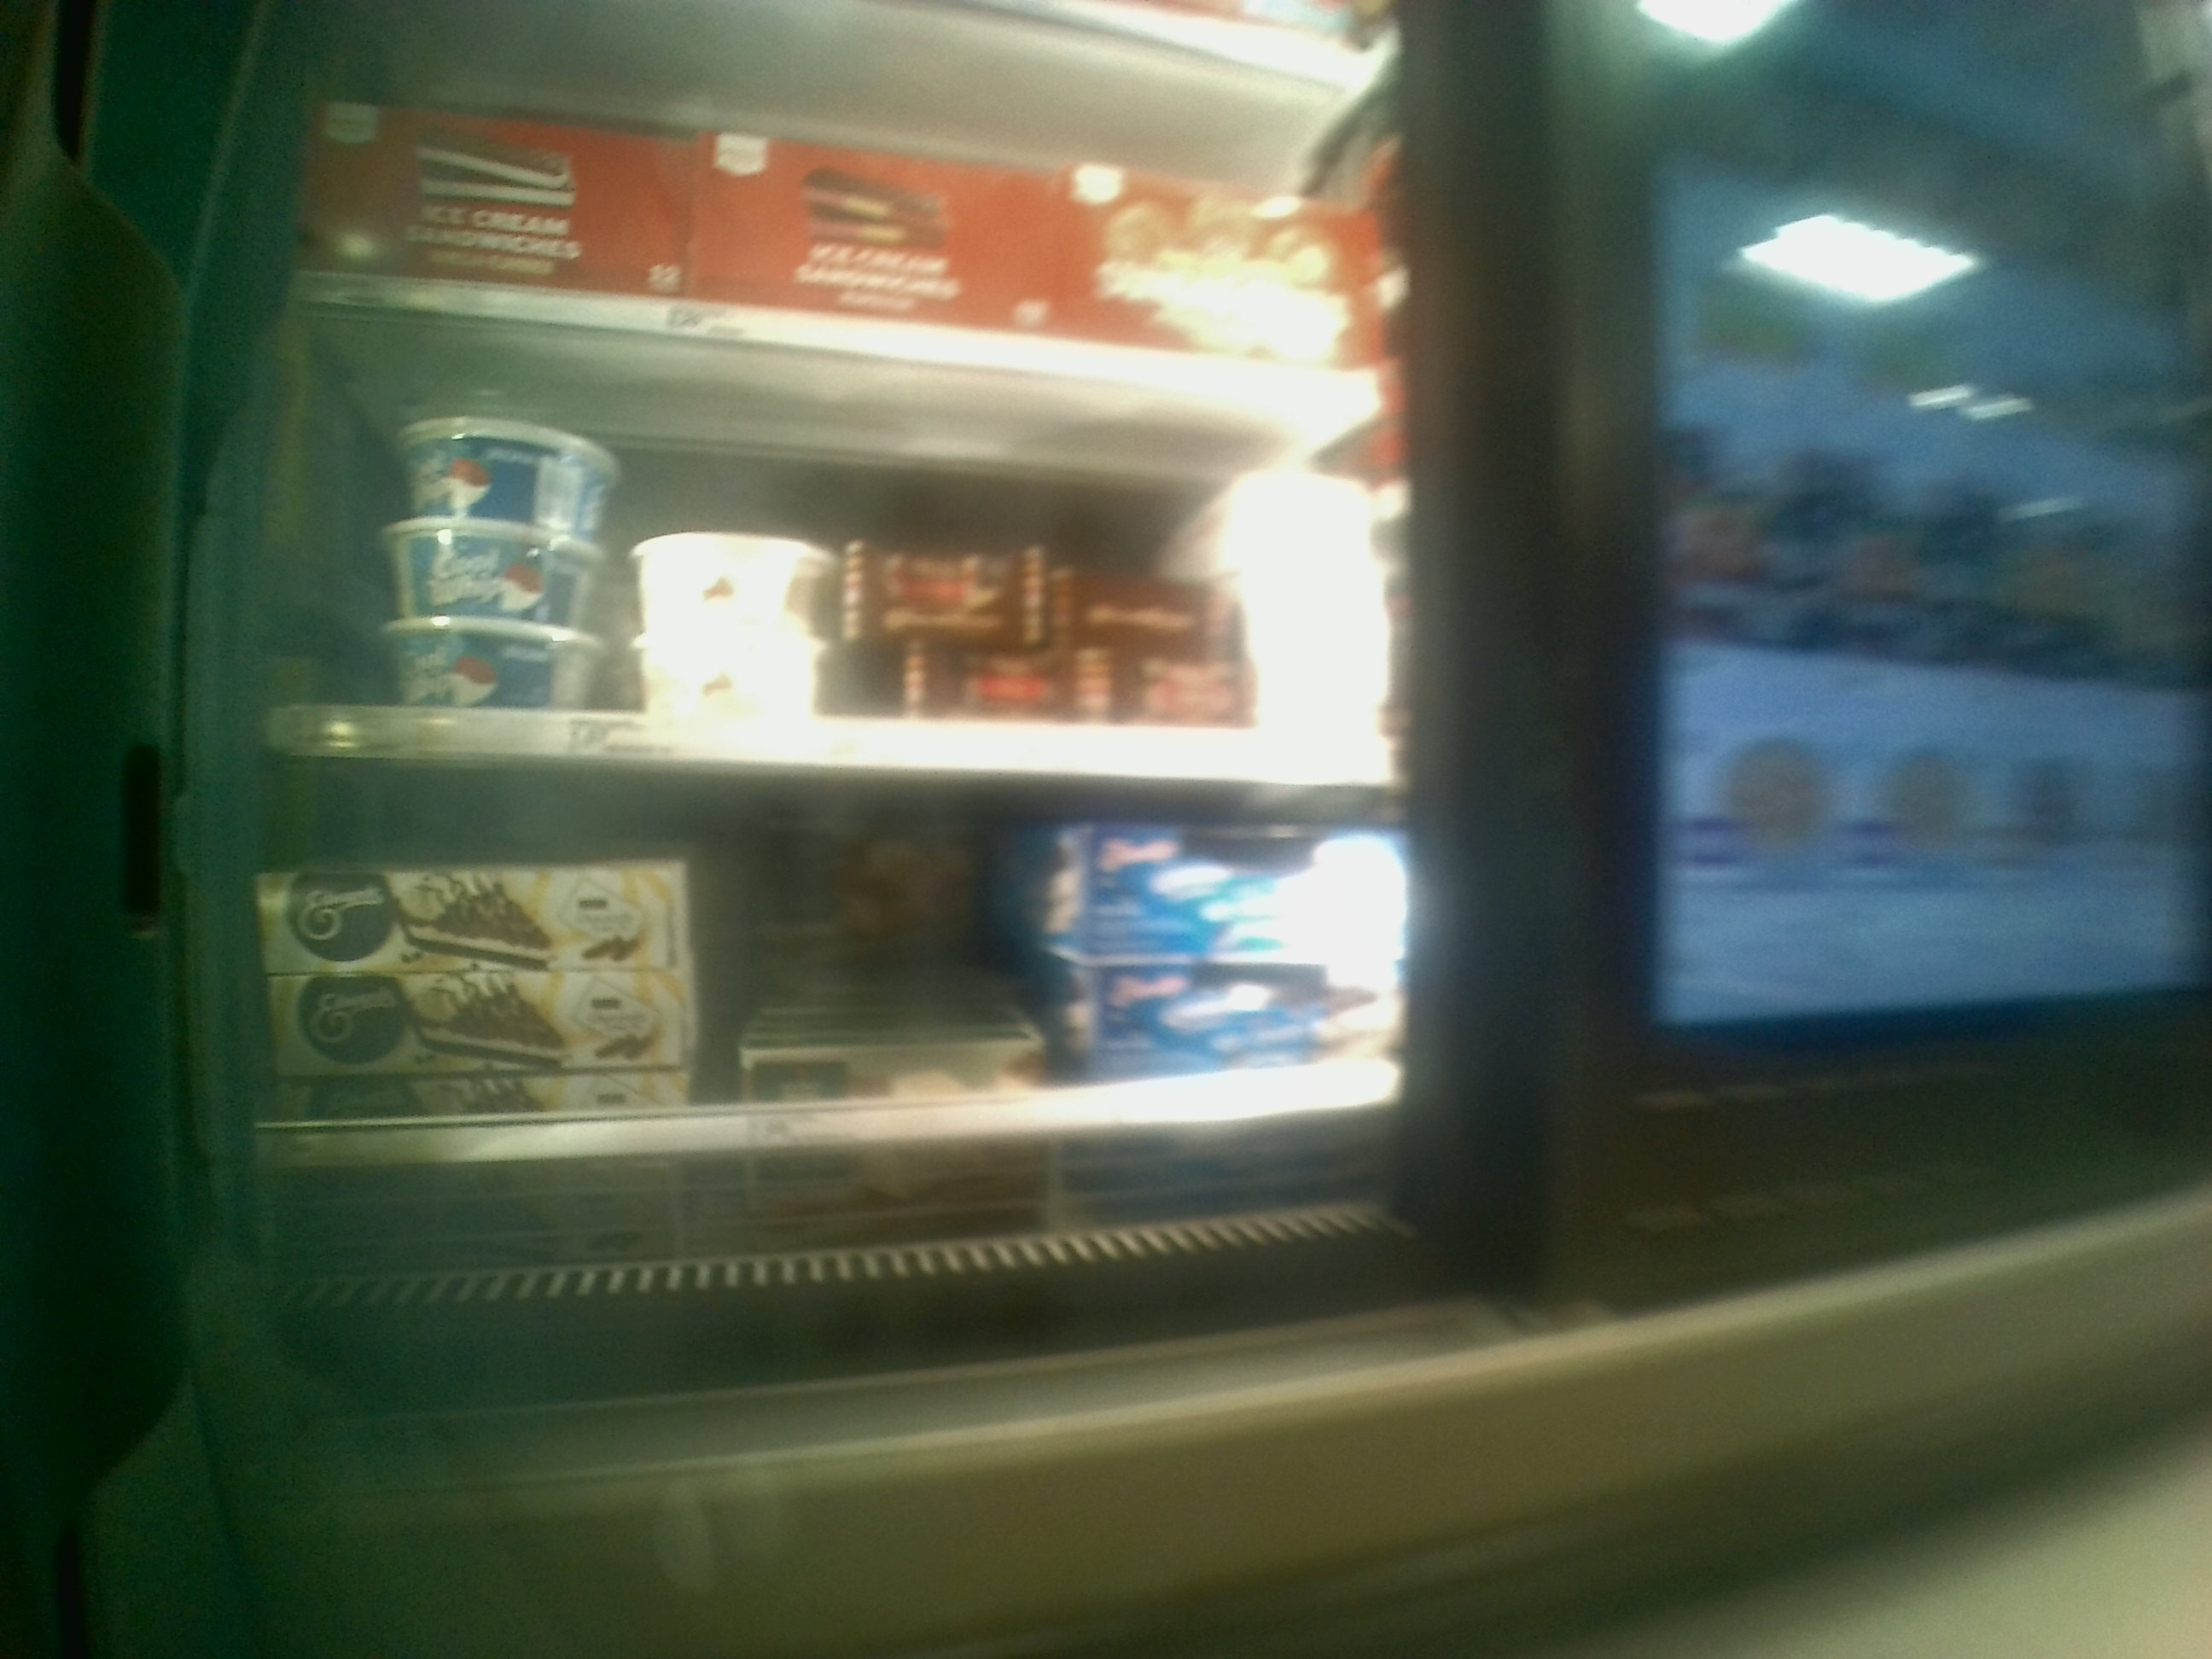frozen-food-shelf: (244, 390, 1439, 788), (240, 791, 1456, 1178)
